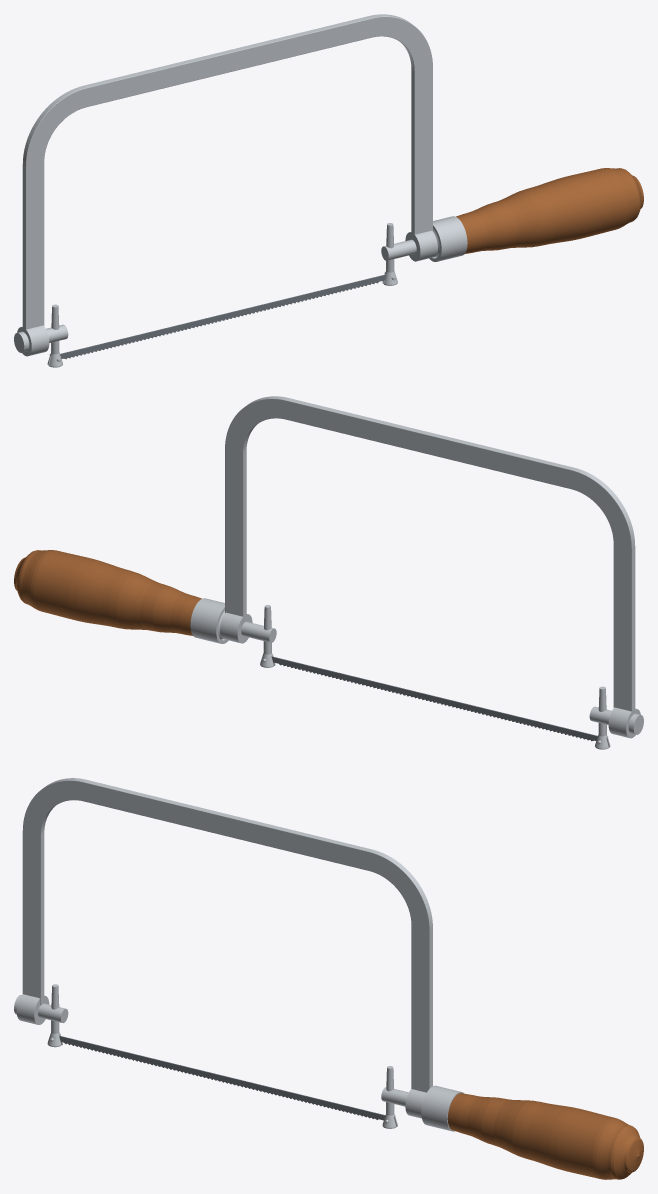
The picture shows the model from 3 angles, top to bottom: view 1: azimuth 30°, elevation 25°; view 2: azimuth 150°, elevation 25°; view 3: azimuth 330°, elevation 25°; orthographic projection.
Parts seen in each view (by area): view 1: Flat_steel_U_frame, Turned_wood_handle_unbranded, Taut_fine_tooth_blade, Handle_metal_ferrule, Right_rolled_frame_eye, Left_rolled_frame_eye, Right_tensioning_blade_holder_axle; view 2: Flat_steel_U_frame, Turned_wood_handle_unbranded, Taut_fine_tooth_blade, Handle_metal_ferrule, Right_rolled_frame_eye, Left_rolled_frame_eye, Right_tensioning_blade_holder_axle; view 3: Flat_steel_U_frame, Turned_wood_handle_unbranded, Taut_fine_tooth_blade, Handle_metal_ferrule, Left_rolled_frame_eye.
Part boxes in pixels (box(x1,y1,x2,y2)): Flat_steel_U_frame: box(22, 14, 432, 329); Turned_wood_handle_unbranded: box(456, 168, 643, 253); Taut_fine_tooth_blade: box(60, 274, 386, 359); Handle_metal_ferrule: box(429, 216, 467, 261); Right_rolled_frame_eye: box(405, 230, 437, 261); Left_rolled_frame_eye: box(17, 325, 49, 356); Right_tensioning_blade_holder_axle: box(381, 239, 416, 260); Flat_steel_U_frame: box(225, 396, 635, 711); Turned_wood_handle_unbranded: box(14, 550, 201, 635); Taut_fine_tooth_blade: box(271, 656, 597, 741); Handle_metal_ferrule: box(190, 598, 228, 643); Right_rolled_frame_eye: box(220, 612, 252, 643); Left_rolled_frame_eye: box(608, 707, 640, 738); Right_tensioning_blade_holder_axle: box(241, 621, 276, 642); Flat_steel_U_frame: box(22, 778, 432, 1092); Turned_wood_handle_unbranded: box(447, 1093, 643, 1179); Taut_fine_tooth_blade: box(59, 1035, 385, 1120); Handle_metal_ferrule: box(421, 1085, 463, 1131); Left_rolled_frame_eye: box(16, 994, 49, 1024).
Bounding box in the file's own units: 0.3 × 0.125 × 0.0268.
